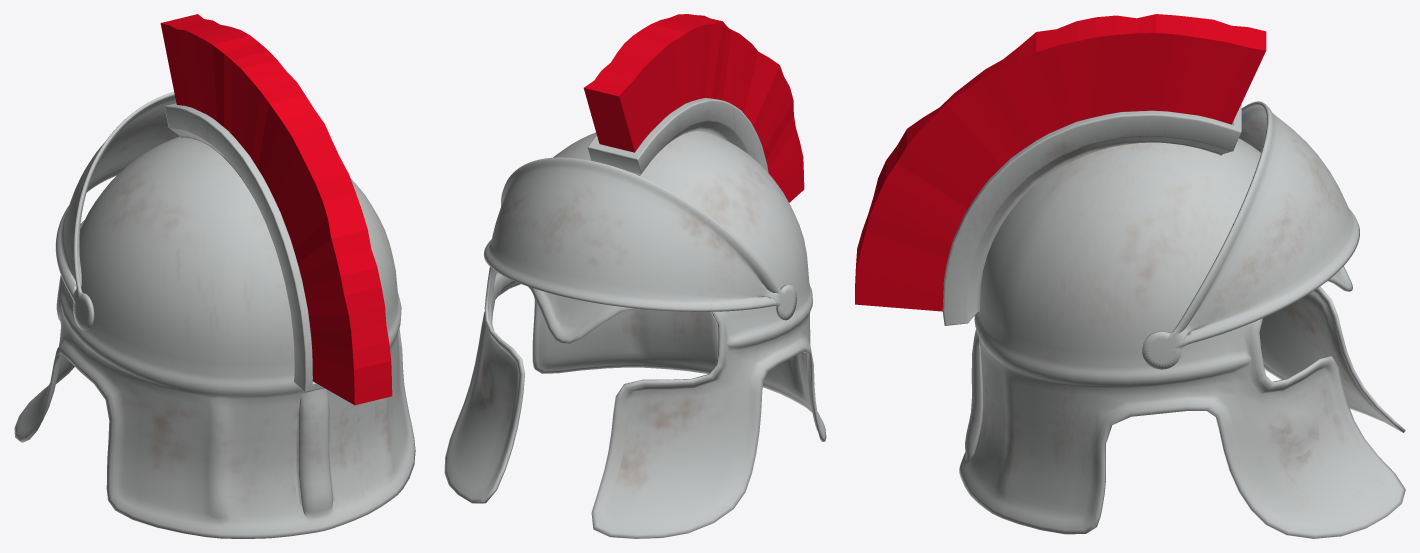
The model's file is Helmet_Low_Poly (for Unity) 1.fbx.
3 views of the same model, side by side, from view 1: azimuth 30°, elevation 25°; view 2: azimuth 150°, elevation 25°; view 3: azimuth 270°, elevation 25° (orthographic). The views are drawn at different scales.
Visible parts, largest first — view 1: Helmet.001, Plane_Hair_for_Crest_base_texture.001, Crest.001, Visiere.001; view 2: Helmet.001, Visiere.001, Plane_Hair_for_Crest_base_texture.001, Crest.001; view 3: Helmet.001, Plane_Hair_for_Crest_base_texture.001, Visiere.001, Crest.001.
Part boxes in pixels (<box>): Helmet.001: <box>14,136,415,538</box>; Plane_Hair_for_Crest_base_texture.001: <box>160,14,392,405</box>; Crest.001: <box>164,103,323,392</box>; Visiere.001: <box>55,92,179,330</box>; Helmet.001: <box>444,131,826,538</box>; Visiere.001: <box>483,157,796,320</box>; Plane_Hair_for_Crest_base_texture.001: <box>583,14,804,202</box>; Crest.001: <box>587,97,768,175</box>; Helmet.001: <box>959,138,1405,538</box>; Plane_Hair_for_Crest_base_texture.001: <box>855,14,1266,311</box>; Visiere.001: <box>1142,101,1359,369</box>; Crest.001: <box>942,104,1241,325</box>.
Size of the model in its own units: 205 by 273 by 304.
